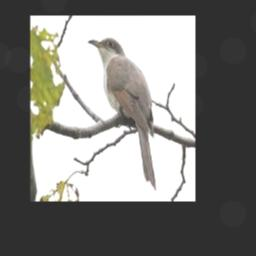Cuckoo: (87, 37, 155, 190)
